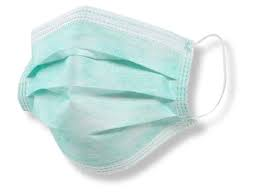flumask: (29, 14, 179, 158)
